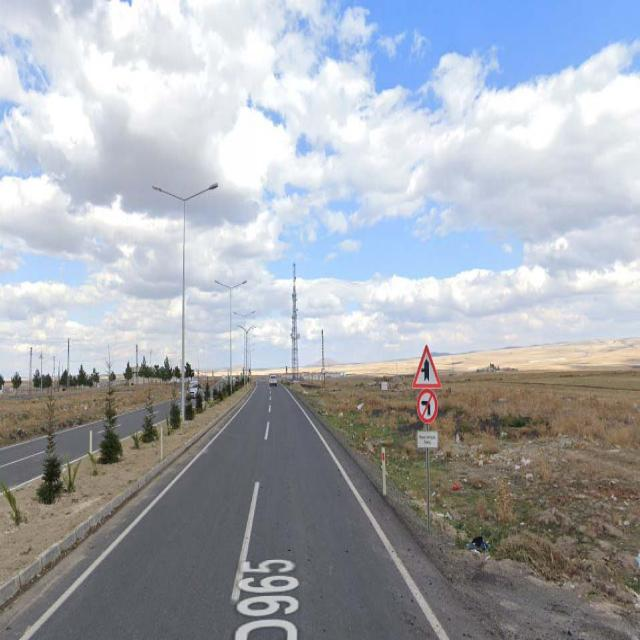soladonulmez: (418, 388, 437, 422)
